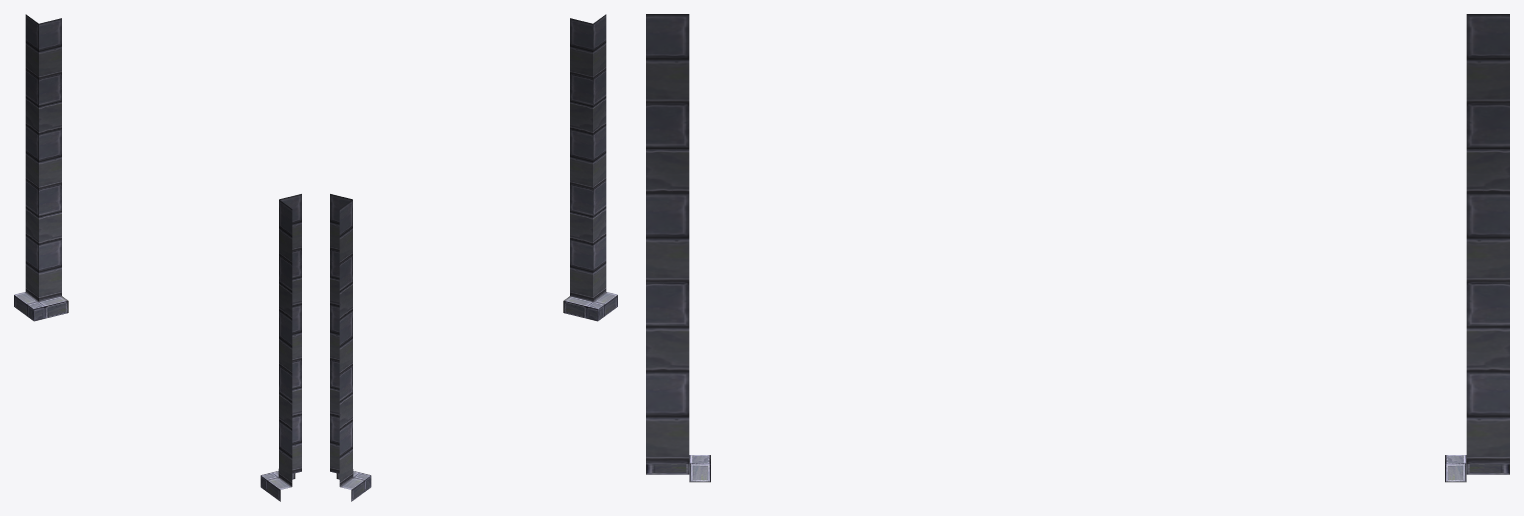
File: dungeon_wall_corner2.FBX
3 views of the same model, side by side, from view 1: azimuth 30°, elevation 25°; view 2: azimuth 150°, elevation 25°; view 3: azimuth 270°, elevation 25° (orthographic). The views are drawn at different scales.
Visible parts, largest first — view 1: Object023; view 2: Object023; view 3: Object023.
Boxes of the visible parts, bbox=[...] form: Object023: bbox=[14, 14, 301, 501]; Object023: bbox=[330, 14, 617, 501]; Object023: bbox=[646, 14, 1509, 482].
Bounding box in the file's own units: 75 × 600 × 1000.
Materials: 1 (1 with a texture image).
